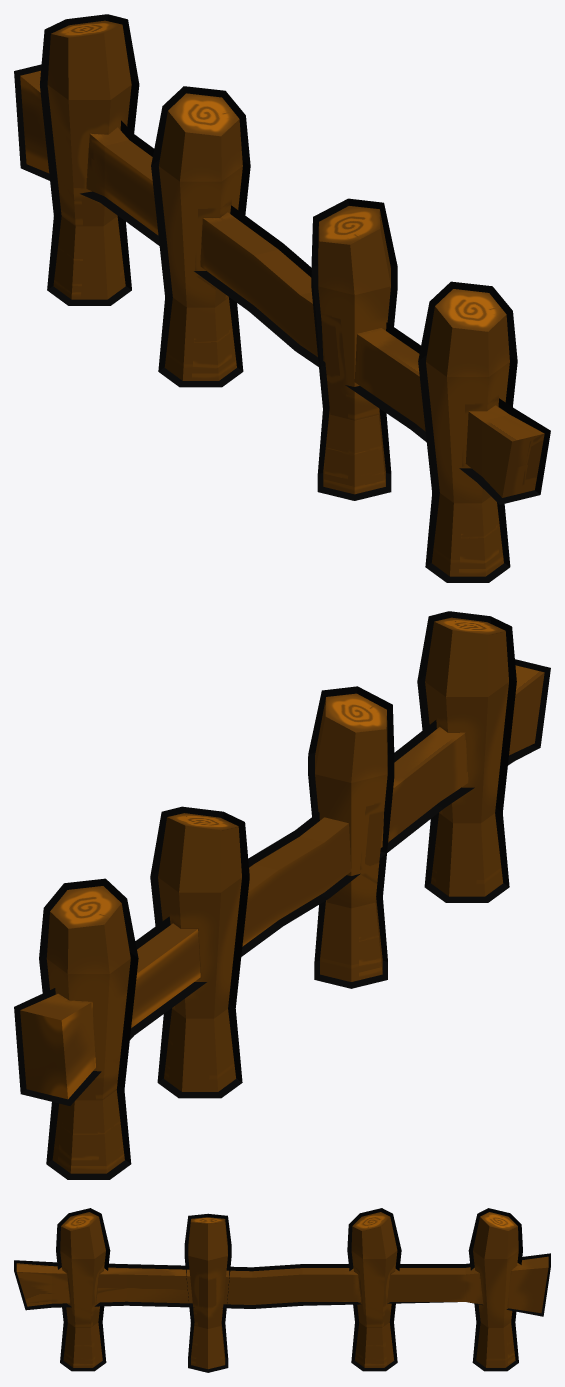
File: Gate.glb
3 renders of one model, top to bottom at view 1: azimuth 30°, elevation 25°; view 2: azimuth 150°, elevation 25°; view 3: azimuth 270°, elevation 25°, orthographic. The views are drawn at different scales.
Parts seen in each view (by area): view 1: Cube, Cube.001; view 2: Cube, Cube.001; view 3: Cube, Cube.001.
Part boxes in pixels (<box>): Cube: <box>20,20,544,576</box>; Cube.001: <box>14,14,550,582</box>; Cube: <box>20,617,544,1173</box>; Cube.001: <box>14,611,550,1179</box>; Cube: <box>16,1212,548,1369</box>; Cube.001: <box>14,1208,550,1372</box>.
Size of the model in its own units: 0.6419 by 1.94 by 6.34.
Materials: 2 (1 with a texture image).
